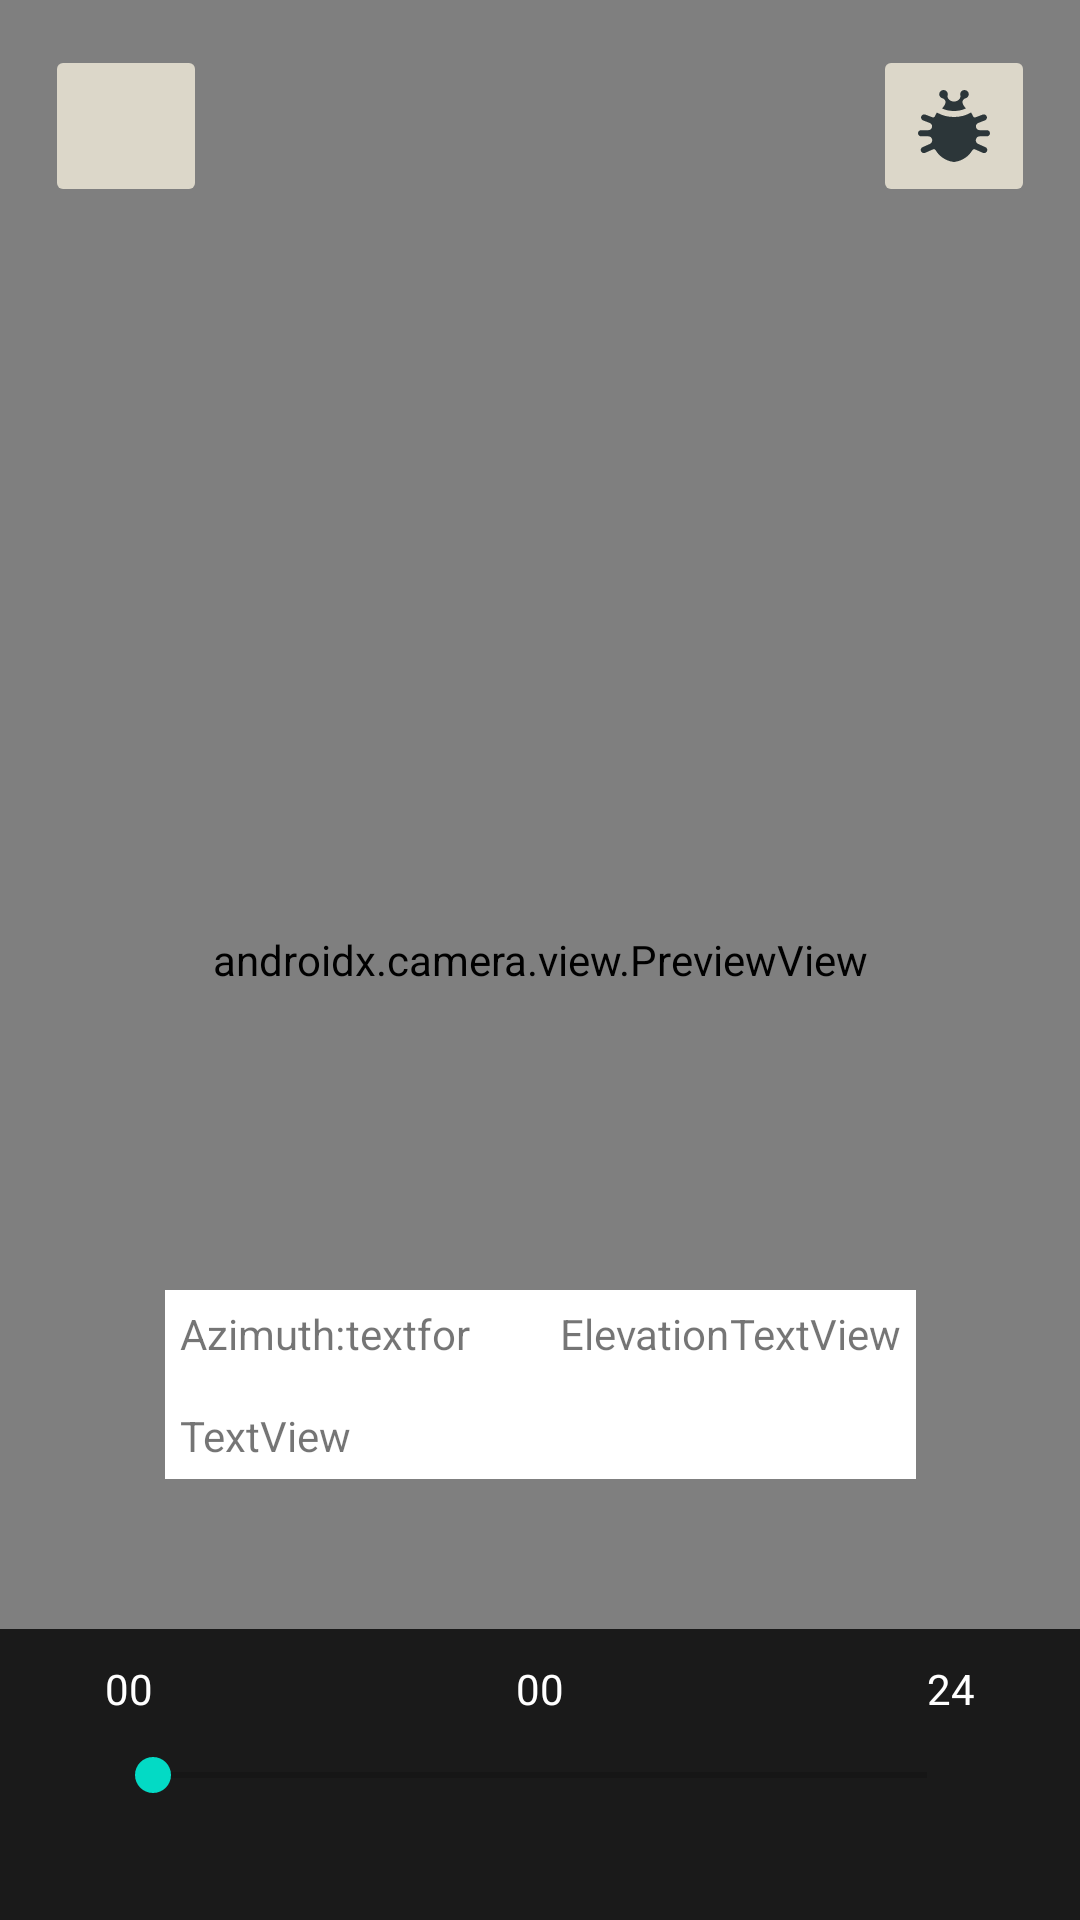

Locate icon controls on the screen. Image size 1080px×1920px, boxes as (left=x1, top=y1, right=x2, bottom=y2).
bug: (left=885, top=63, right=1023, bottom=189)
